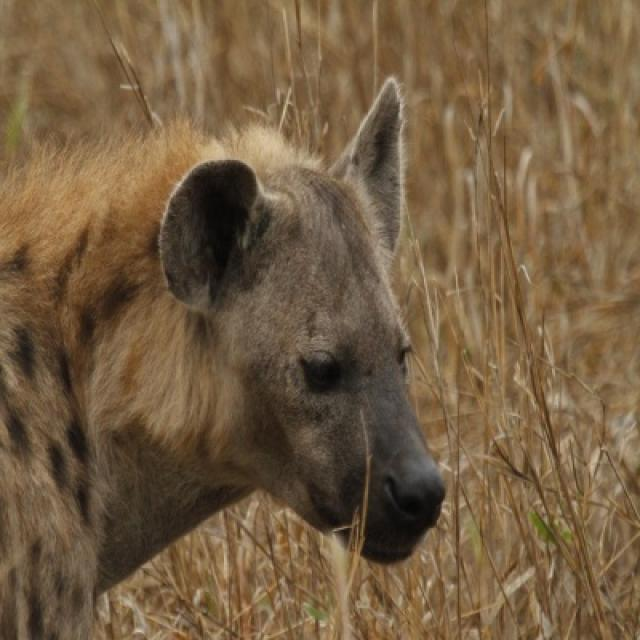hyena: (0, 80, 446, 638)
